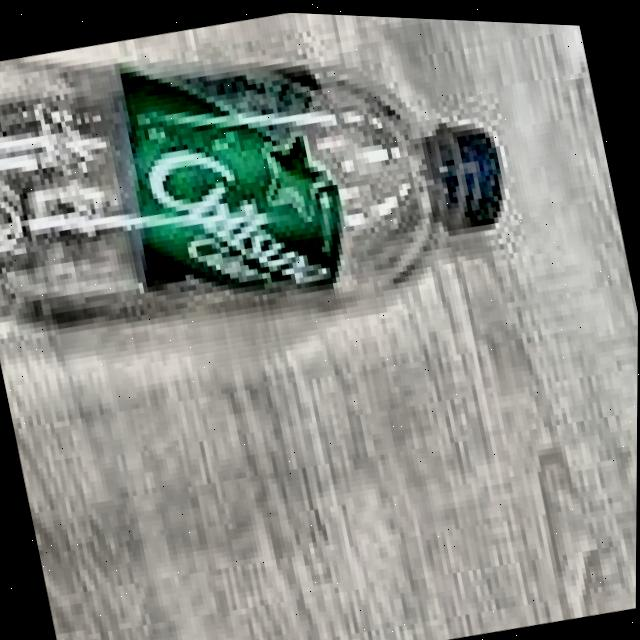plastic: (0, 0, 533, 379)
